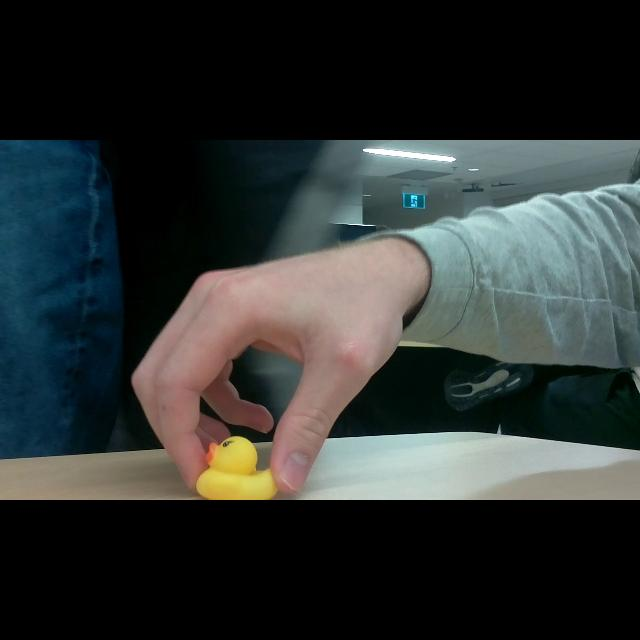duck_regular: (196, 435, 288, 501)
